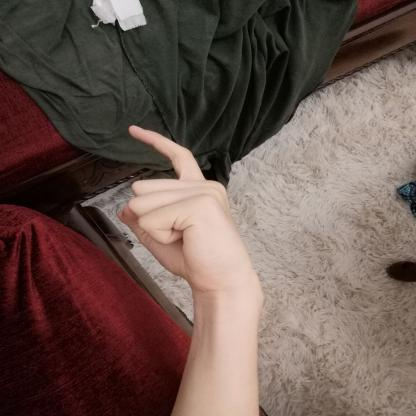RAA: (107, 117, 266, 295)
